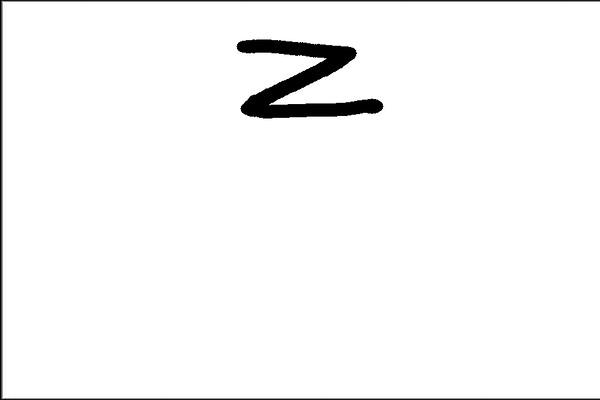Z: (228, 30, 388, 124)
